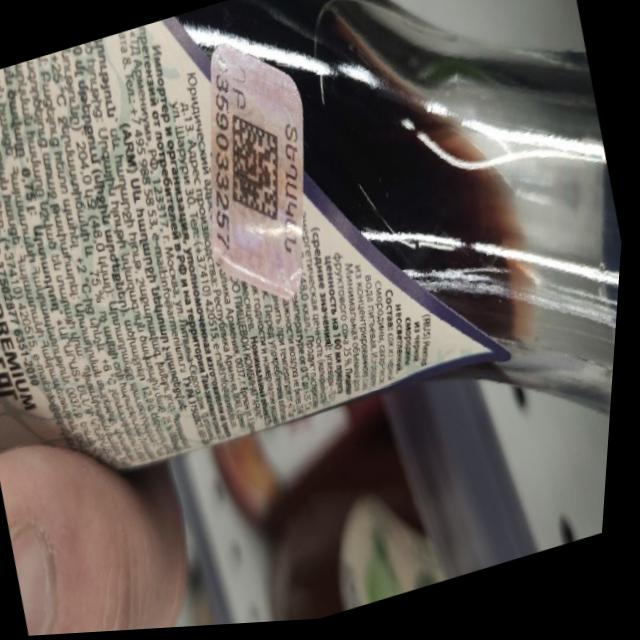datamatrix: (212, 99, 305, 239)
